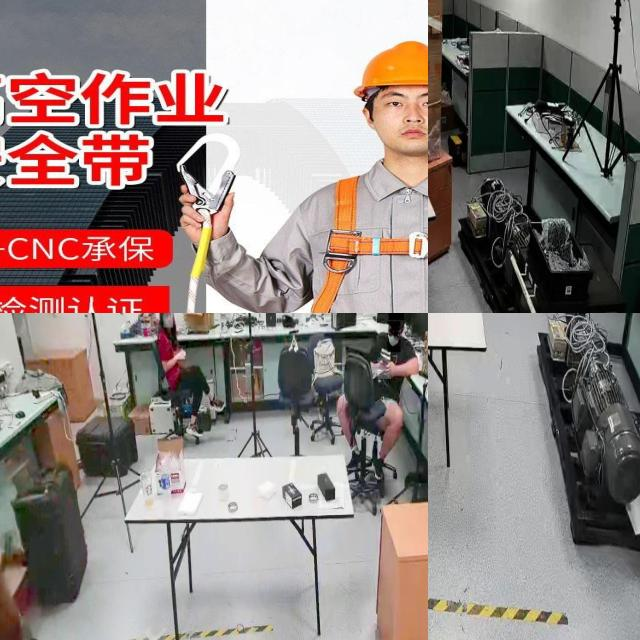Harness: (286, 169, 428, 313)
No_Glasses: (379, 89, 428, 117)
face_mask: (388, 322, 400, 352)
face_nomask: (163, 313, 173, 328)
hand_noglove: (378, 358, 390, 380), (383, 360, 395, 378), (174, 352, 186, 361), (178, 345, 186, 356)
head_nohelmet: (388, 313, 404, 321)
person: (344, 313, 427, 483), (151, 313, 230, 454)
shoes: (368, 451, 386, 484), (344, 445, 364, 474), (205, 388, 226, 414), (186, 416, 204, 442)
